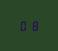eight: (29, 20, 38, 31)
zero: (19, 20, 28, 31)
